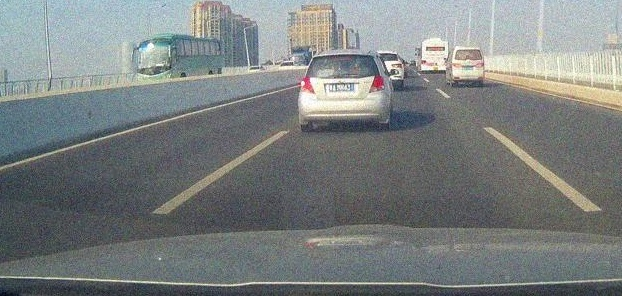L_light: (300, 76, 316, 94), (452, 63, 461, 67)
R_light: (368, 76, 385, 93), (476, 62, 484, 67)
T_light: (333, 55, 349, 57), (465, 50, 472, 51)
day-left: (299, 51, 388, 129)
day-no: (451, 47, 485, 86)
